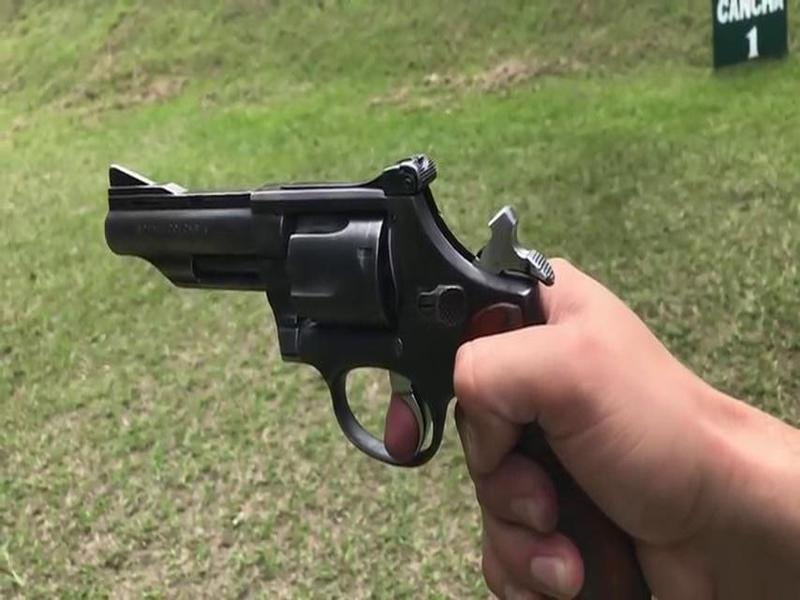Revolver: (97, 133, 602, 478)
